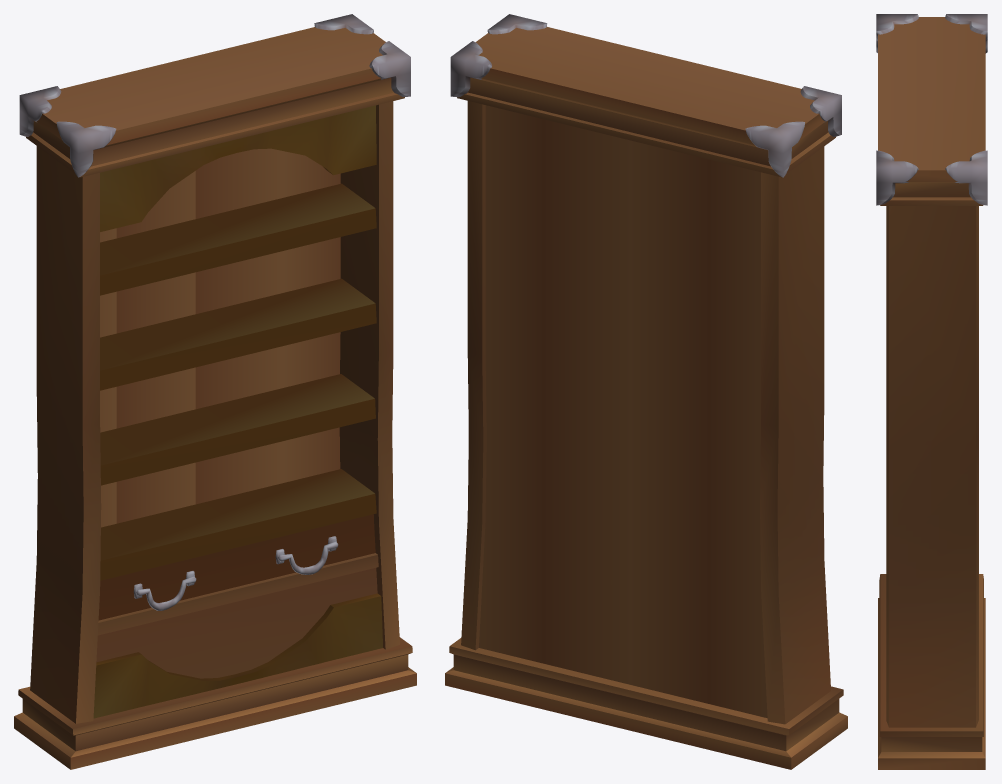
File: bookcase.glb
3 renders of one model, left to right at view 1: azimuth 30°, elevation 25°; view 2: azimuth 150°, elevation 25°; view 3: azimuth 270°, elevation 25°, orthographic. The views are drawn at different scales.
Parts seen in each view (by area): view 1: bookcase; view 2: bookcase; view 3: bookcase.
Part boxes in pixels (box(x1,y1,x2,y2)): bookcase: box(14, 14, 416, 769); bookcase: box(445, 14, 847, 769); bookcase: box(876, 14, 987, 769).
Size of the model in its own units: 1.46 by 2.54 by 0.429.
